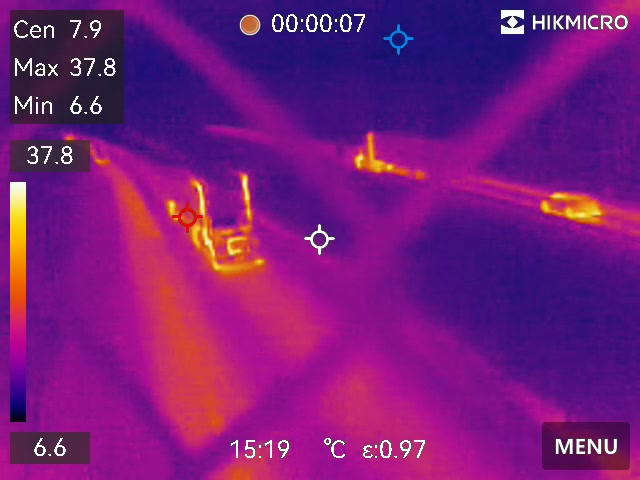heavyTruck: (354, 123, 467, 186)
vehicle: (161, 173, 275, 272), (533, 186, 604, 221)
